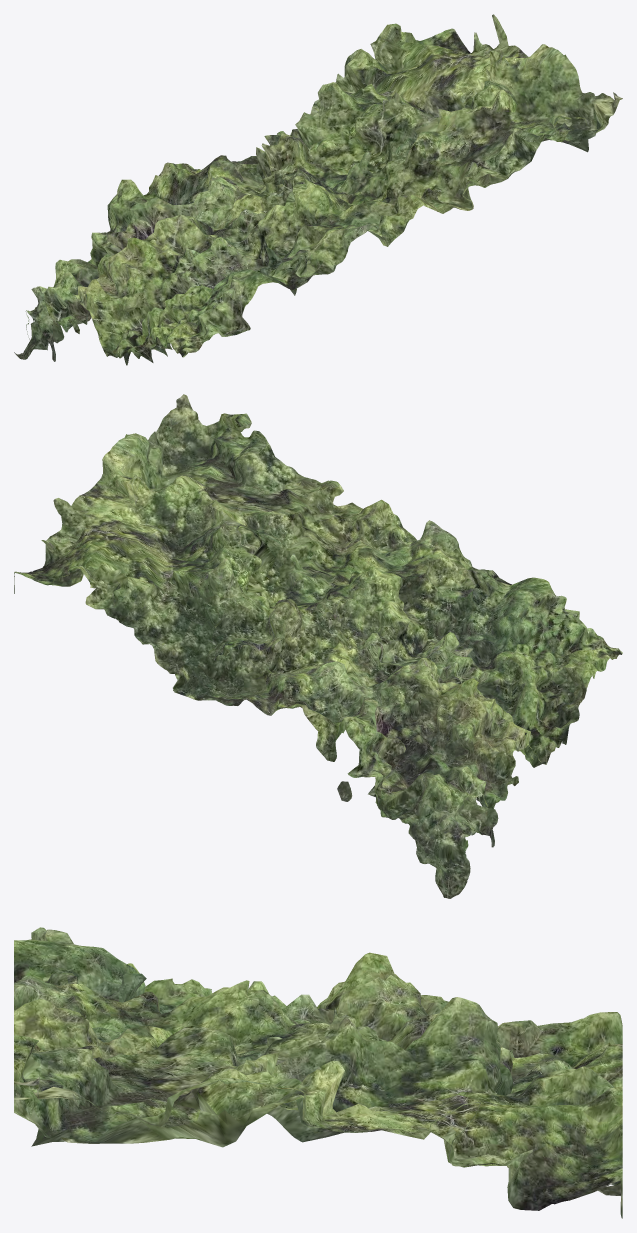
Rendered from BlockBBYA_L20_8.glb.
The picture shows the model from 3 angles, top to bottom: view 1: azimuth 30°, elevation 25°; view 2: azimuth 150°, elevation 25°; view 3: azimuth 270°, elevation 25°; orthographic projection. The views are drawn at different scales.
Parts seen in each view (by area): view 1: rtc; view 2: rtc; view 3: rtc.
Part boxes in pixels (left/top/right/bottom): rtc: left=14, top=14, right=622, bottom=365; rtc: left=14, top=394, right=622, bottom=898; rtc: left=14, top=927, right=622, bottom=1218.
Size of the model in its own units: 24.45 by 14.72 by 16.34.
2 materials, 2 textured.
